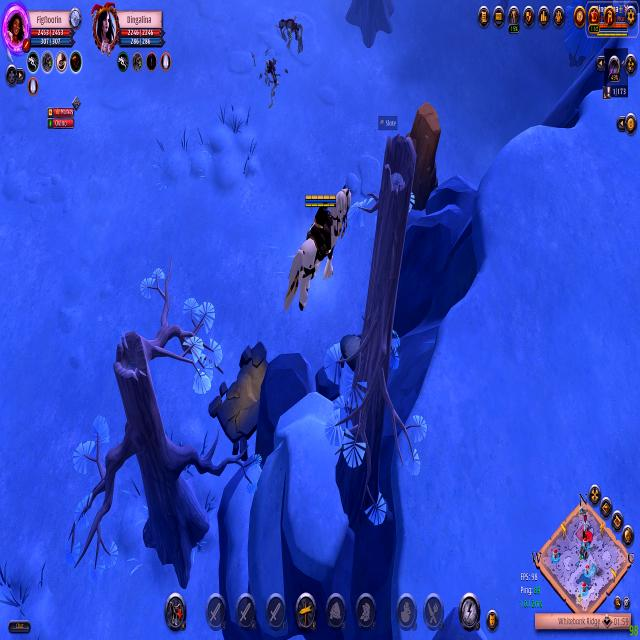ore: (277, 12, 307, 56), (258, 57, 282, 109)
red: (281, 180, 357, 318), (584, 0, 640, 43)
tree: (398, 97, 443, 212)
